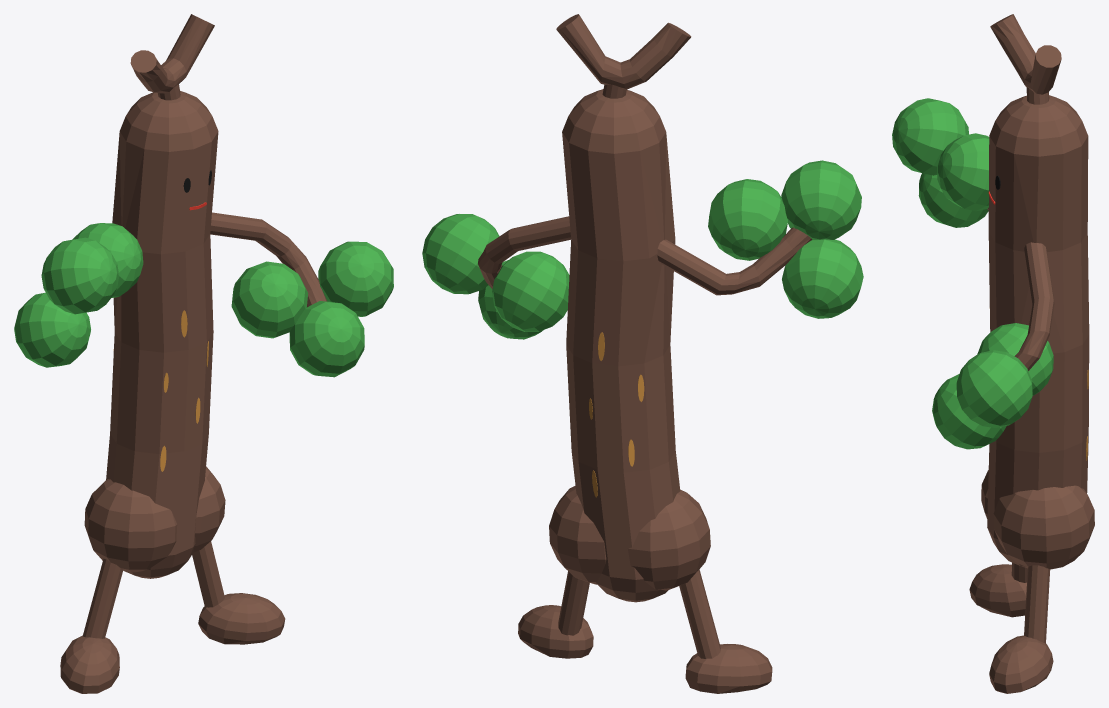
The model's file is poke.fbx.
The picture shows the model from 3 angles, left to right: view 1: azimuth 30°, elevation 25°; view 2: azimuth 150°, elevation 25°; view 3: azimuth 270°, elevation 25°; orthographic projection. The views are drawn at different scales.
Visible parts, largest first — view 1: group1969485758, group1094286504, group1404647029, group1138298916, group444245937, group1896578153, group1371403279, group1646929310, group965302135, group106915586, group1856749327, group1626024475 (+3 smaller); view 2: group1969485758, group1094286504, group1626024475, group444245937, group1371403279, group1404647029, group1896578153, group106915586, group77909442, group276897260, group1856749327, group1646929310 (+4 smaller); view 3: group1969485758, group276897260, group1896578153, group1404647029, group1626024475, group1646929310, group965302135, group106915586, group1138298916, group1856749327, group444245937, group1371403279 (+1 smaller).
Part boxes in pixels (box(x1,y1,x2,y2)): group1969485758: box(106, 91, 218, 578); group1094286504: box(84, 479, 177, 572); group1404647029: box(41, 237, 119, 314); group1138298916: box(289, 301, 364, 377); group444245937: box(231, 261, 308, 338); group1896578153: box(318, 241, 393, 316); group1371403279: box(14, 292, 90, 367); group1646929310: box(198, 593, 285, 644); group965302135: box(210, 212, 327, 307); group106915586: box(130, 14, 214, 93); group1856749327: box(60, 635, 119, 693); group1626024475: box(72, 223, 143, 297); group1969485758: box(562, 89, 680, 602); group1094286504: box(628, 489, 710, 590); group1626024475: box(708, 179, 787, 260); group444245937: box(492, 251, 569, 331); group1371403279: box(782, 239, 863, 318); group1404647029: box(781, 160, 861, 239); group1896578153: box(422, 214, 502, 294); group106915586: box(556, 14, 691, 89); group77909442: box(657, 227, 812, 295); group276897260: box(549, 485, 606, 584); group1856749327: box(685, 644, 772, 693); group1646929310: box(518, 605, 593, 658); group1969485758: box(987, 95, 1089, 568); group276897260: box(993, 485, 1094, 569); group1896578153: box(956, 350, 1032, 427); group1404647029: box(892, 98, 968, 175); group1626024475: box(937, 133, 989, 211); group1646929310: box(989, 635, 1053, 693); group965302135: box(1014, 242, 1054, 370); group106915586: box(990, 14, 1061, 94); group1138298916: box(932, 374, 1006, 449); group1856749327: box(969, 564, 1026, 617); group444245937: box(977, 323, 1053, 395); group1371403279: box(918, 173, 988, 227).
Bounding box in the file's own units: 219 × 334 × 98.79.
